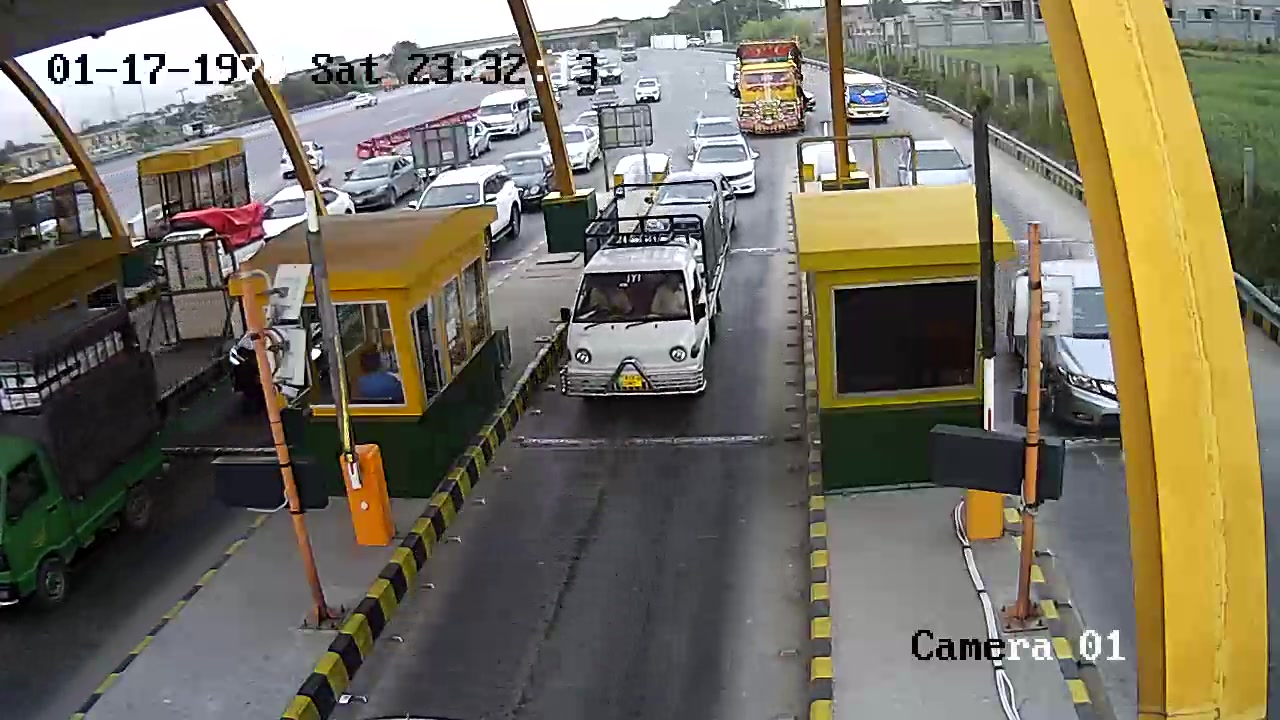F2: (556, 188, 745, 418)
